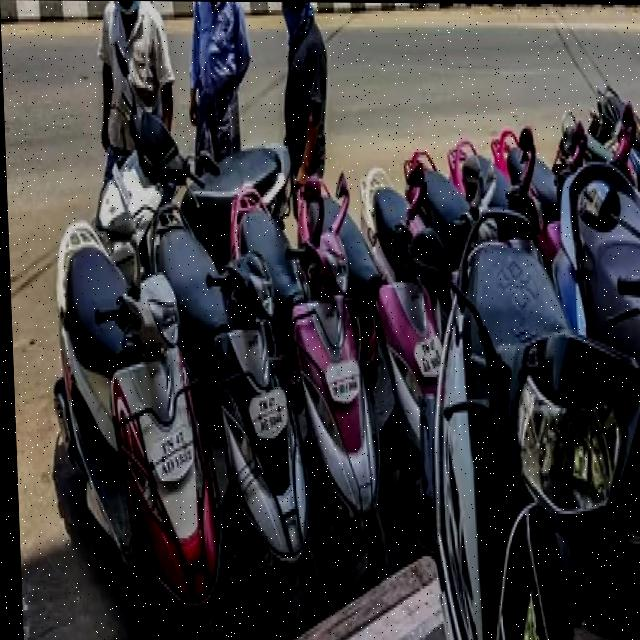plate: (145, 421, 194, 486), (245, 384, 289, 441), (322, 355, 360, 402), (410, 330, 442, 377)
